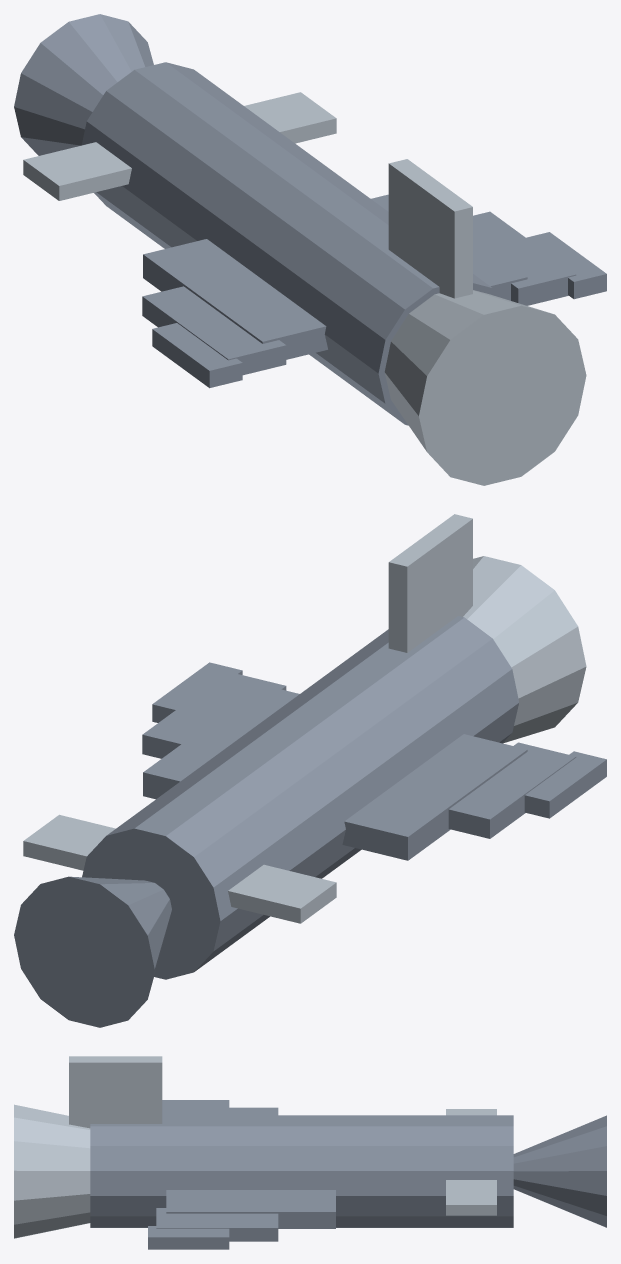
The model's file is patrol_cutter.glb.
3 renders of one model, top to bottom at view 1: azimuth 30°, elevation 25°; view 2: azimuth 150°, elevation 25°; view 3: azimuth 270°, elevation 25°, orthographic. The views are drawn at different scales.
Parts seen in each view (by area): view 1: PatrolCutter, PatrolTrim; view 2: PatrolCutter, PatrolTrim; view 3: PatrolCutter, PatrolTrim.
Part boxes in pixels (x1=…): PatrolCutter: x1=14, y1=14, x2=606, y2=425; PatrolTrim: x1=23, y1=92, x2=586, y2=485; PatrolCutter: x1=14, y1=616, x2=606, y2=1027; PatrolTrim: x1=23, y1=514, x2=586, y2=923; PatrolCutter: x1=90, y1=1100, x2=606, y2=1249; PatrolTrim: x1=14, y1=1056, x2=496, y2=1238.
Size of the model in its own units: 1.92 by 1.12 by 3.5.
